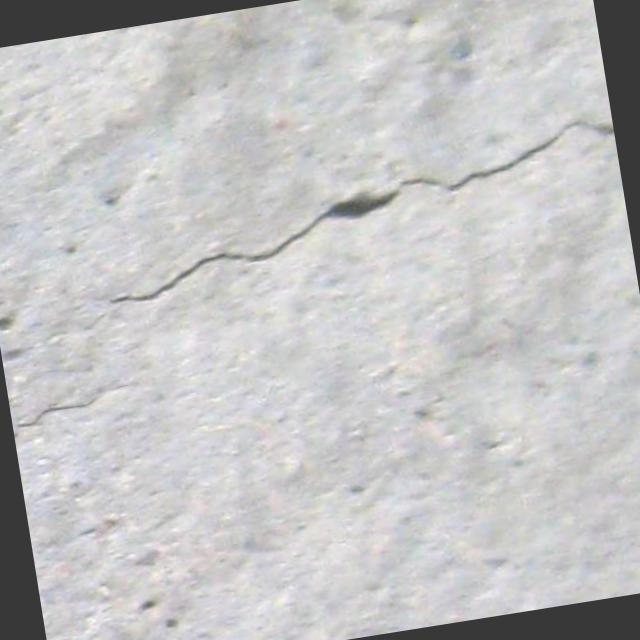crack: (88, 113, 624, 306), (9, 376, 140, 434)
